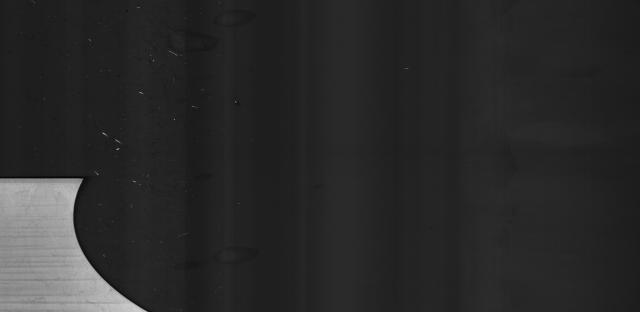waist_folding: (5, 197, 69, 312)
